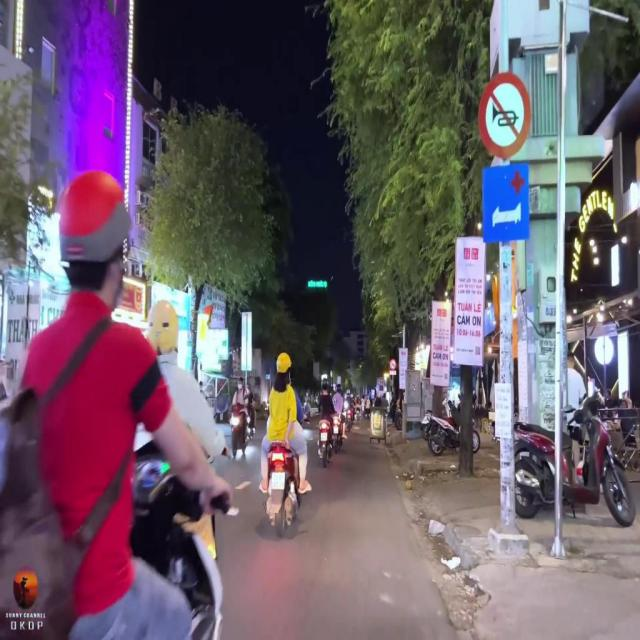cam_o_to: (390, 358, 397, 371)
cam_su_dung_coi: (478, 72, 531, 160)
khac: (482, 163, 530, 242), (389, 370, 396, 374)
